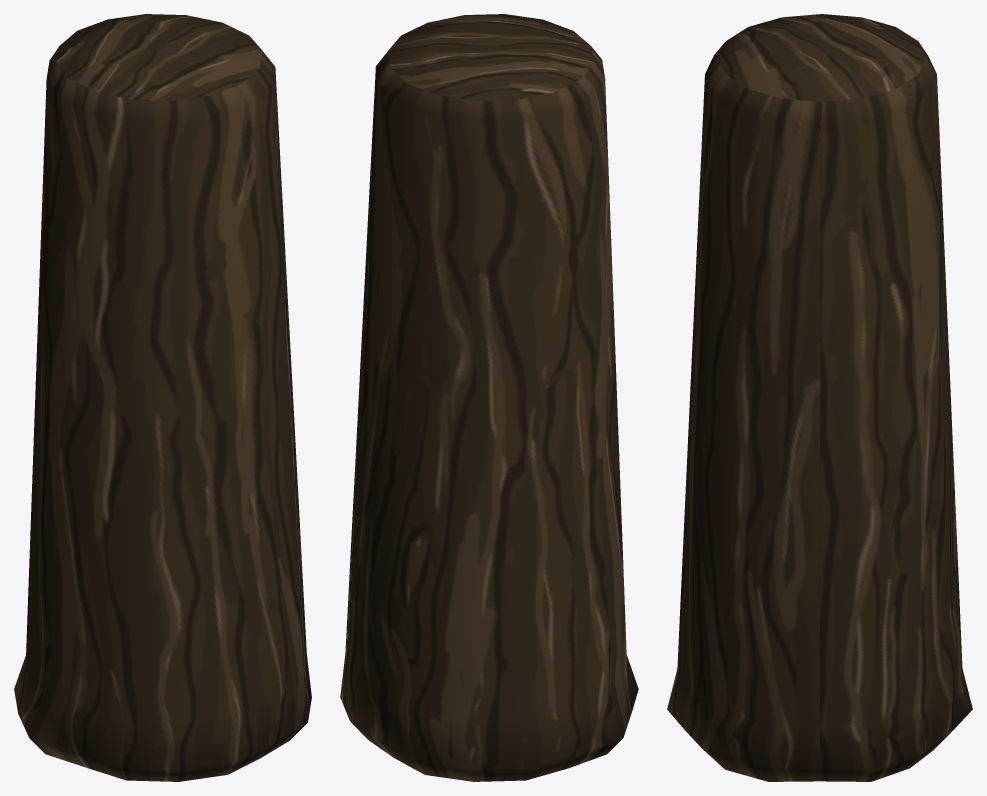
The model's file is SpruceTree1_Stick1_v1.fbx.
The picture shows the model from 3 angles, left to right: view 1: azimuth 30°, elevation 25°; view 2: azimuth 150°, elevation 25°; view 3: azimuth 270°, elevation 25°; orthographic projection.
Visible parts, largest first — view 1: ChoppedOfTree.001; view 2: ChoppedOfTree.001; view 3: ChoppedOfTree.001.
Boxes of the visible parts, box(x1,y1,x2,y2) form: ChoppedOfTree.001: box(14, 14, 311, 781); ChoppedOfTree.001: box(340, 14, 638, 781); ChoppedOfTree.001: box(667, 14, 972, 781).
Bounding box in the file's own units: 57.99 × 145 × 58.85.
